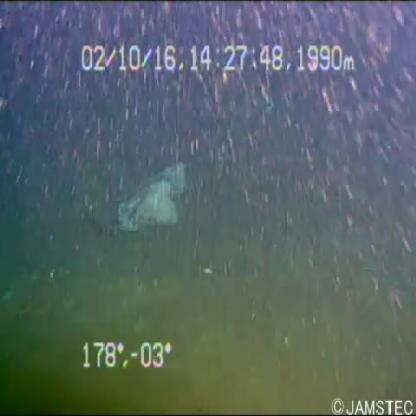Rác: (111, 143, 201, 260), (236, 86, 274, 124)
